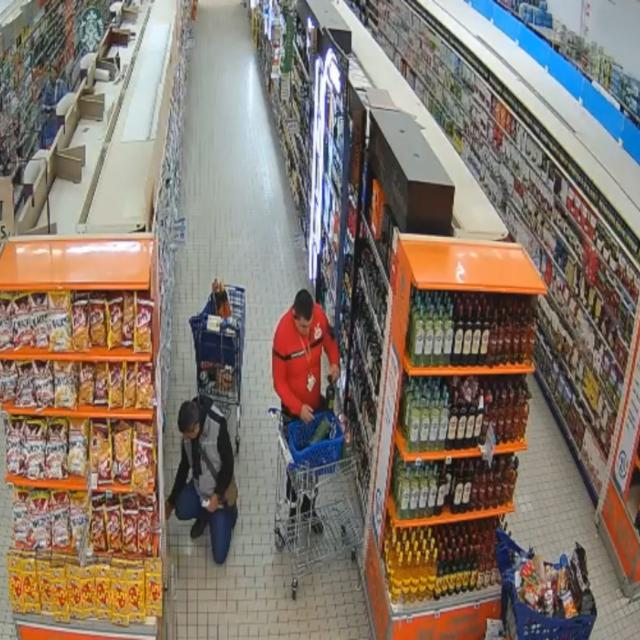article: (332, 382, 342, 415), (325, 384, 335, 411)
hands: (205, 494, 220, 513), (301, 405, 314, 423), (329, 365, 339, 382), (165, 499, 173, 519)
person: (166, 397, 237, 564), (273, 290, 338, 423)
